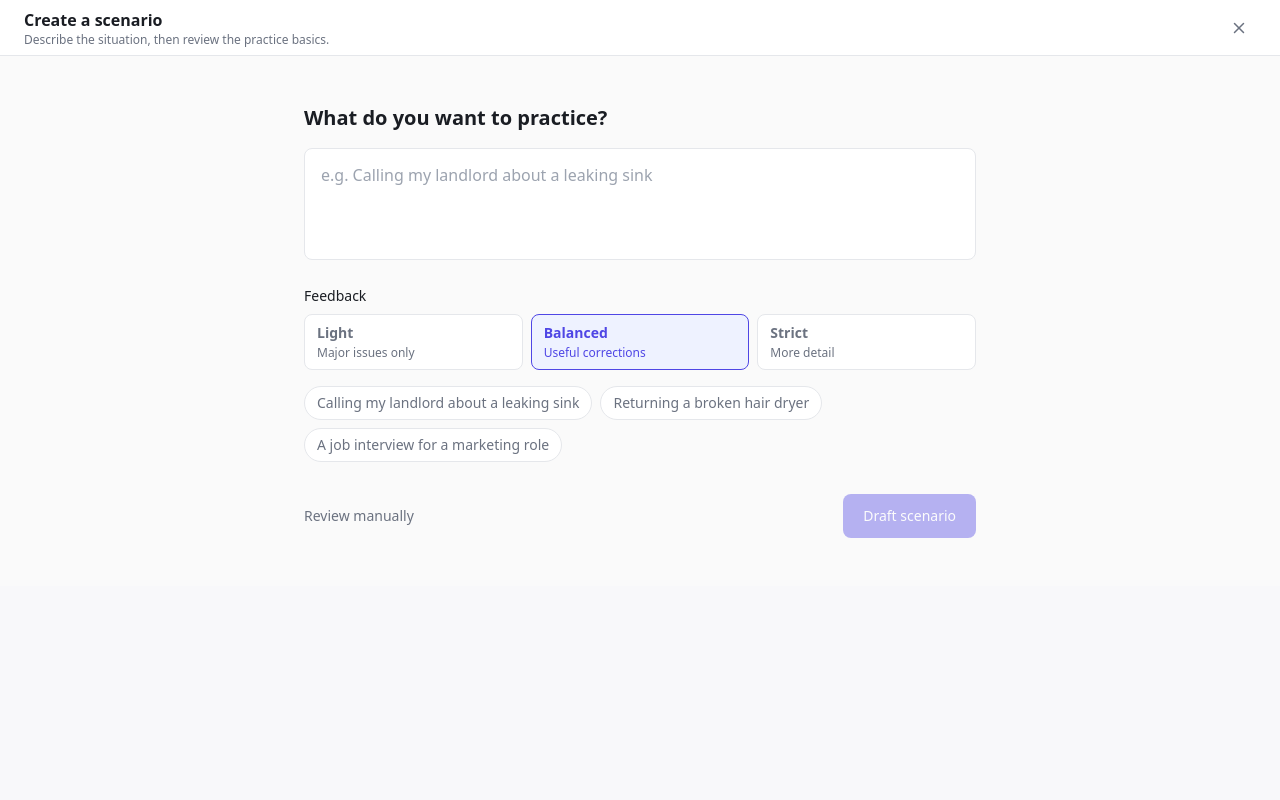
Scenario: CustomScenarioForm › falls back to manual review when drafting fails
Type "job interview for a marketing role" into the text box labelled "What do you want to practice?" at (640, 204), box [304,148,976,260]
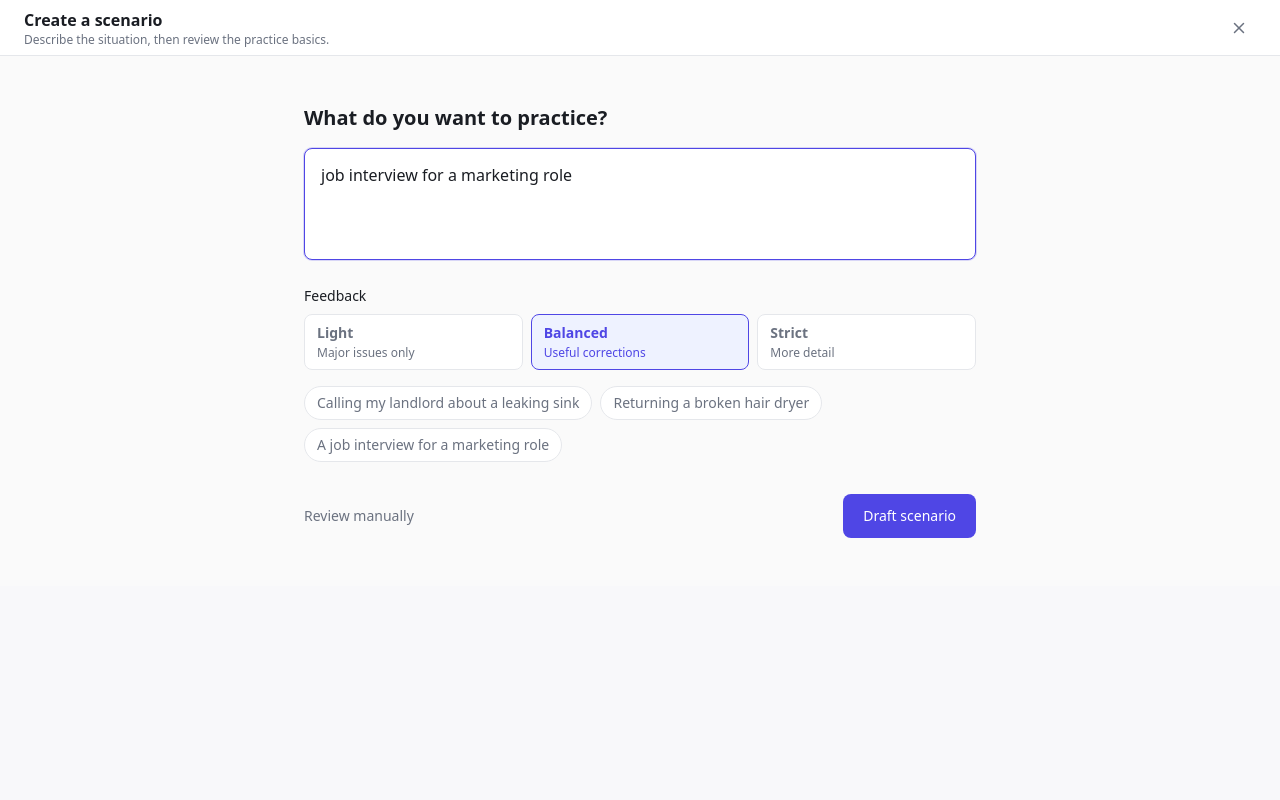
Click the button "Draft scenario" at (910, 516), box [843,494,976,538]
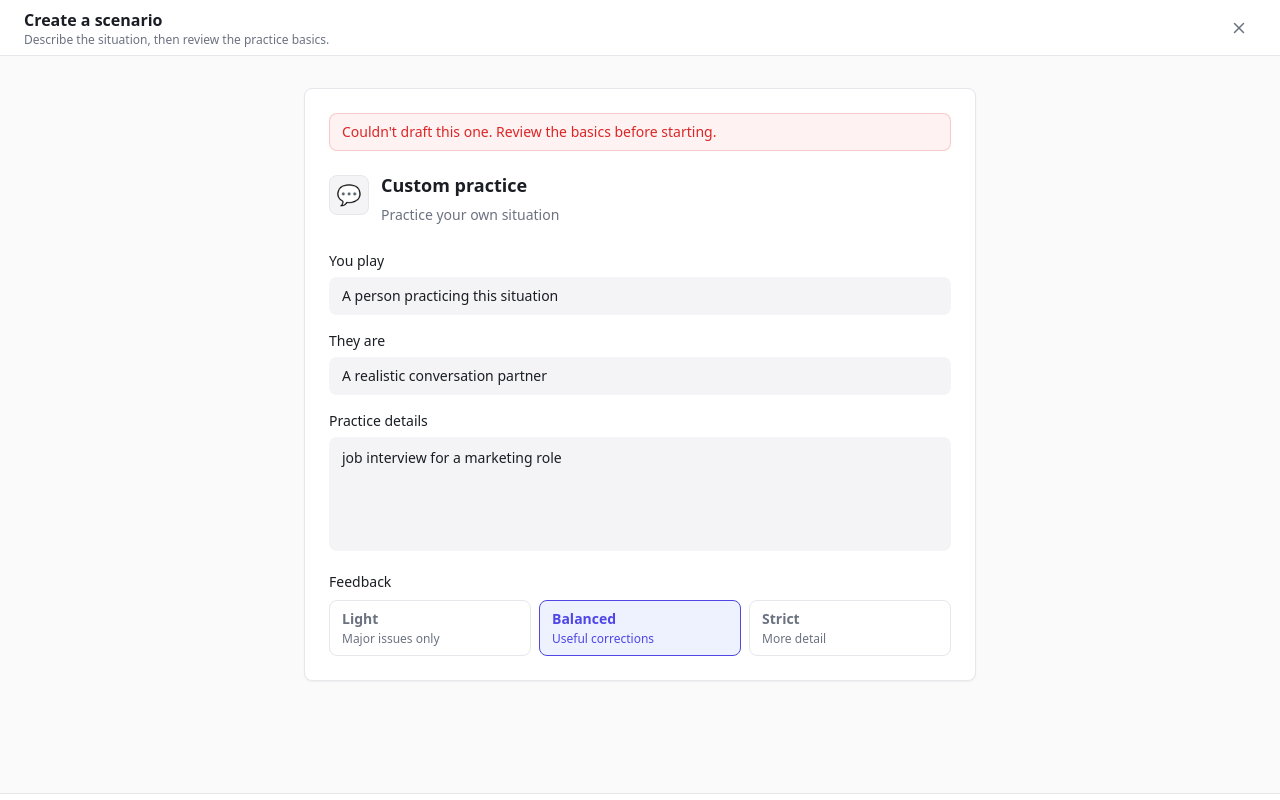
Now the text "Couldn't draft this one. Review the basics before starting." is shown, box [329,113,951,151]
Now the heading "Custom practice" is shown, box [381,173,527,197]
Now the text box showing "job interview for a marketing role" is shown, box [329,437,951,551]
